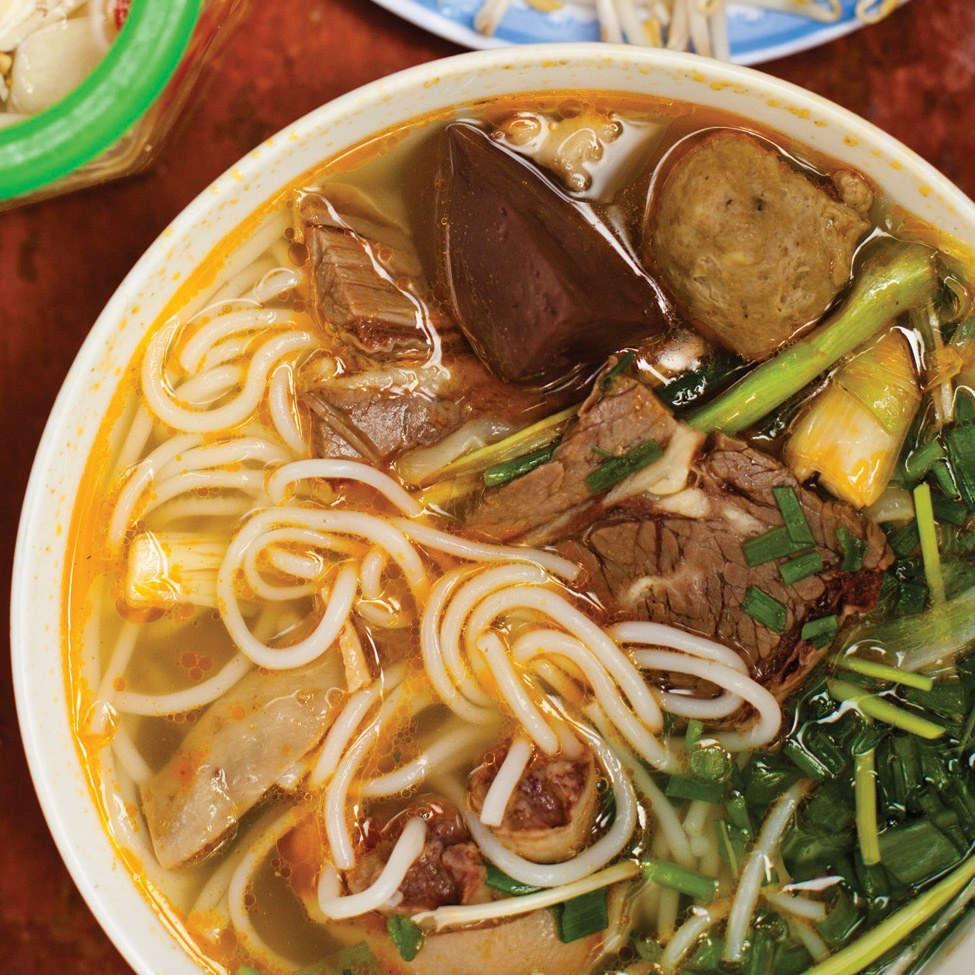beef: (504, 374, 844, 696), (290, 200, 490, 459)
onion: (735, 753, 938, 937)
